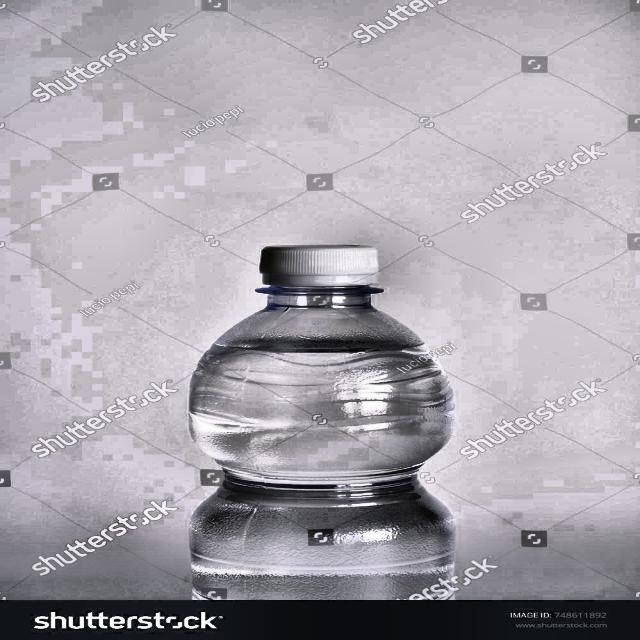Bottles: (176, 226, 465, 505)
